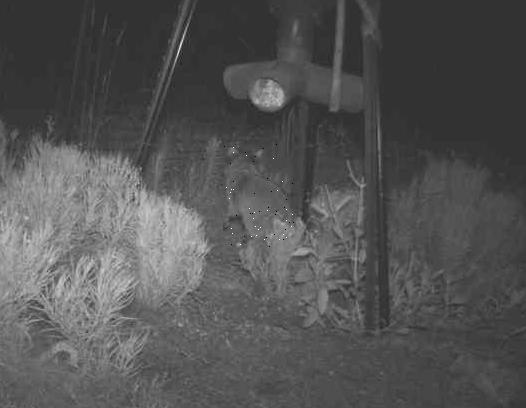Raccoon: (222, 142, 294, 249)
